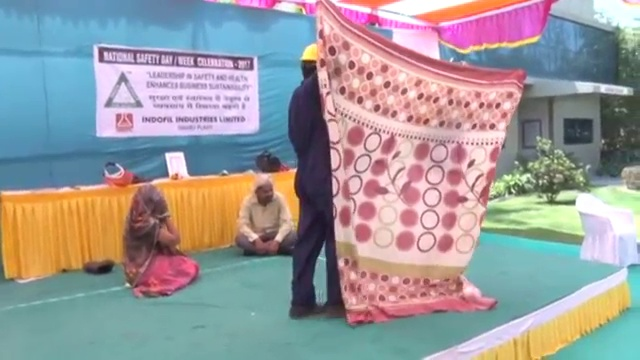helmet: (298, 40, 320, 62)
helmet_off: (135, 184, 167, 211), (253, 176, 275, 206)
helmet_on: (295, 38, 324, 80)
person: (284, 38, 346, 319), (114, 184, 196, 296), (231, 176, 292, 253)
